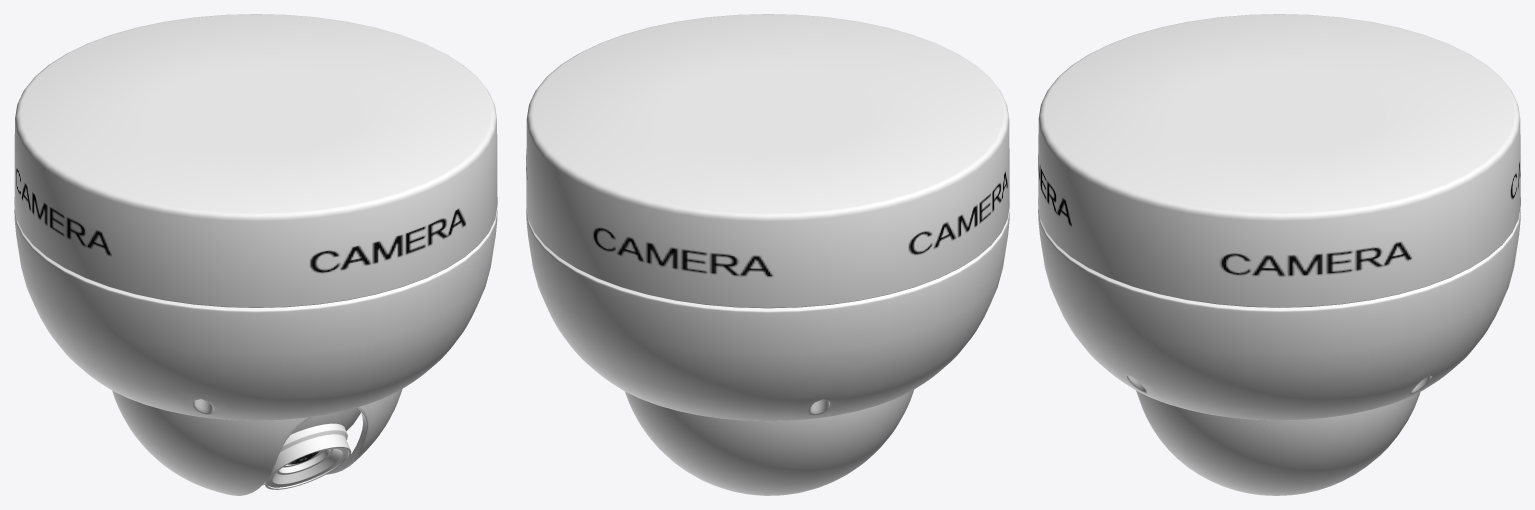
The model's file is 360qiuji.gltf.
3 views of the same model, side by side, from view 1: azimuth 30°, elevation 25°; view 2: azimuth 150°, elevation 25°; view 3: azimuth 270°, elevation 25° (orthographic).
Visible parts, largest first — view 1: 未命名; view 2: 未命名; view 3: 未命名.
Boxes of the visible parts, x1,y1,x2,y2 form: 未命名: [14, 14, 497, 495]; 未命名: [526, 14, 1009, 495]; 未命名: [1038, 14, 1520, 495].
Size of the model in its own units: 0.1391 by 0.1171 by 0.1391.
1 material, 1 textured.
